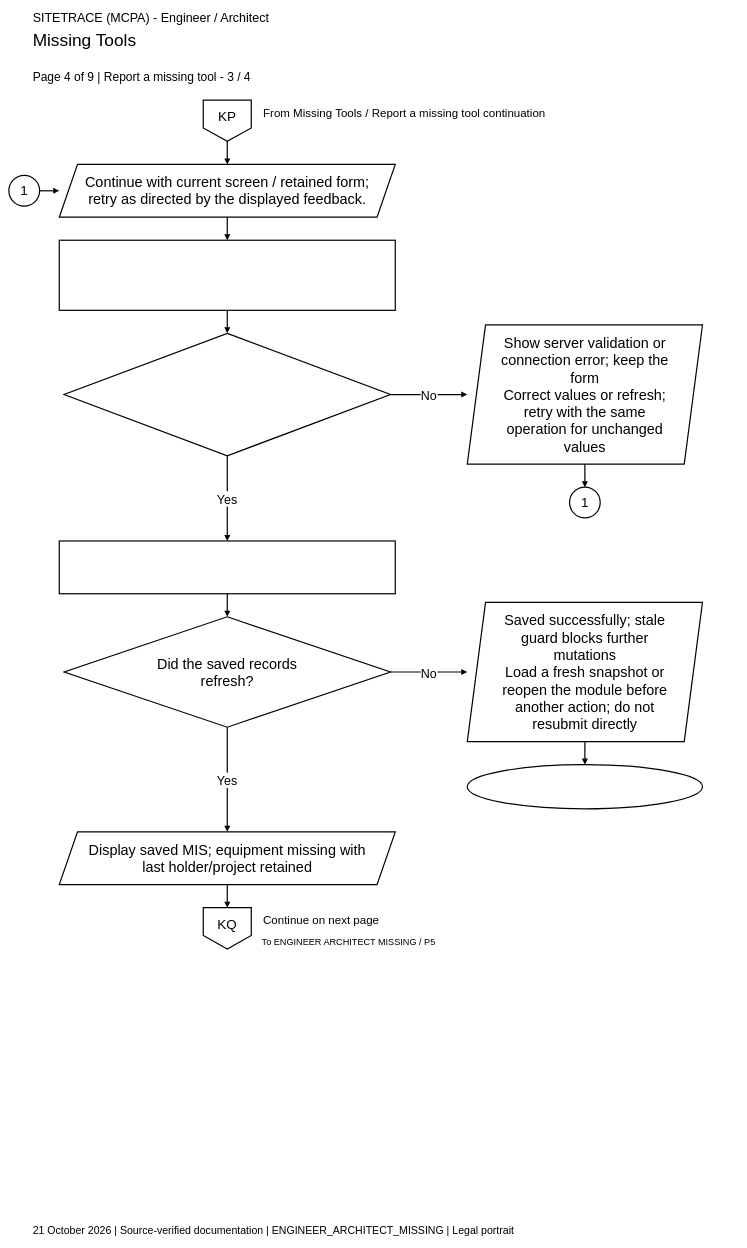
The diagram is 747 pixels wide and 1248 high, and some of its shapes have lost their labels. The centre of each missing label's shape, as x and y in pixels:
"Did server validation and the atomic operation succeed?" belongs at pixel 227 394.
"END ATTEMPT" belongs at pixel 584 786.
"Refresh committed movement records and activity" belongs at pixel 227 567.
"Submit reportMissing to mcpa_movement_action with retained operation UUID" belongs at pixel 227 275.
